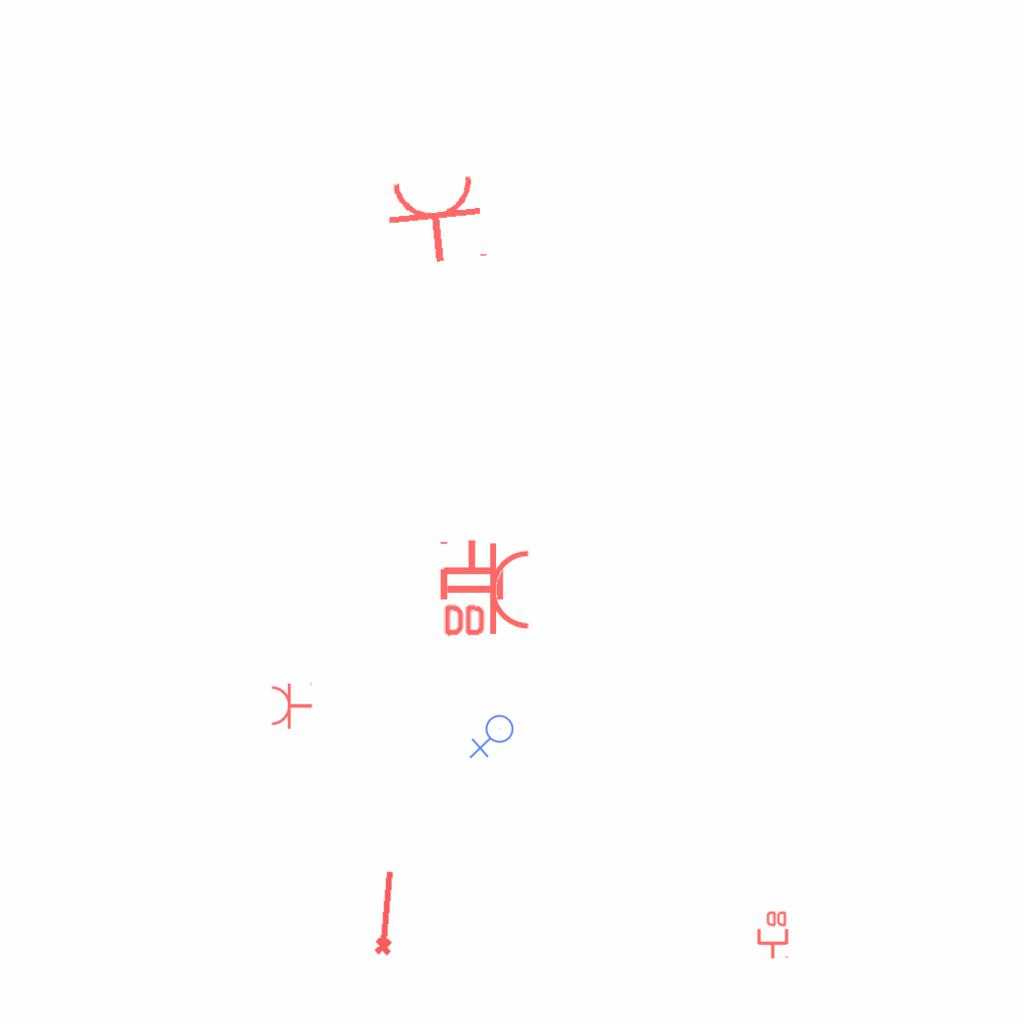ASR_Ansaugoeffnung: (369, 867, 401, 958)
Datenanschluss_zweifach: (439, 537, 508, 640), (755, 909, 789, 960)
Elektroanschluss_allgemein_230V_Geraeteanschlussdose_230V: (469, 714, 518, 761)
Schukosteckdose_einfach: (383, 171, 492, 269), (445, 541, 532, 641), (270, 680, 313, 730)
